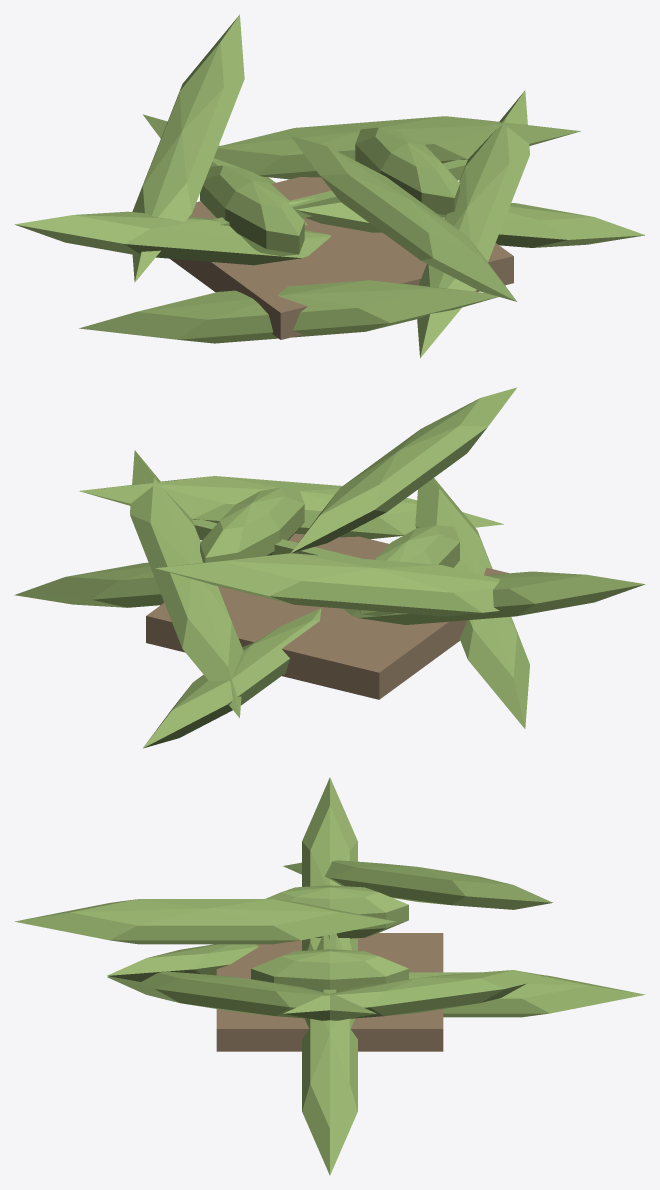
Rendered from cozy-farm-and-homestead-courgette-mature-cce7e528__19393.glb.
The picture shows the model from 3 angles, top to bottom: view 1: azimuth 30°, elevation 25°; view 2: azimuth 150°, elevation 25°; view 3: azimuth 270°, elevation 25°; orthographic projection. The views are drawn at different scales.
Visible parts, largest first — view 1: courgette-mature; view 2: courgette-mature; view 3: courgette-mature.
Boxes of the visible parts, left/top/right/bottom form: courgette-mature: left=14, top=14, right=644, bottom=358; courgette-mature: left=14, top=387, right=645, bottom=748; courgette-mature: left=15, top=777, right=645, bottom=1175.
Bounding box in the file's own units: 1.22 × 0.3523 × 1.25.
